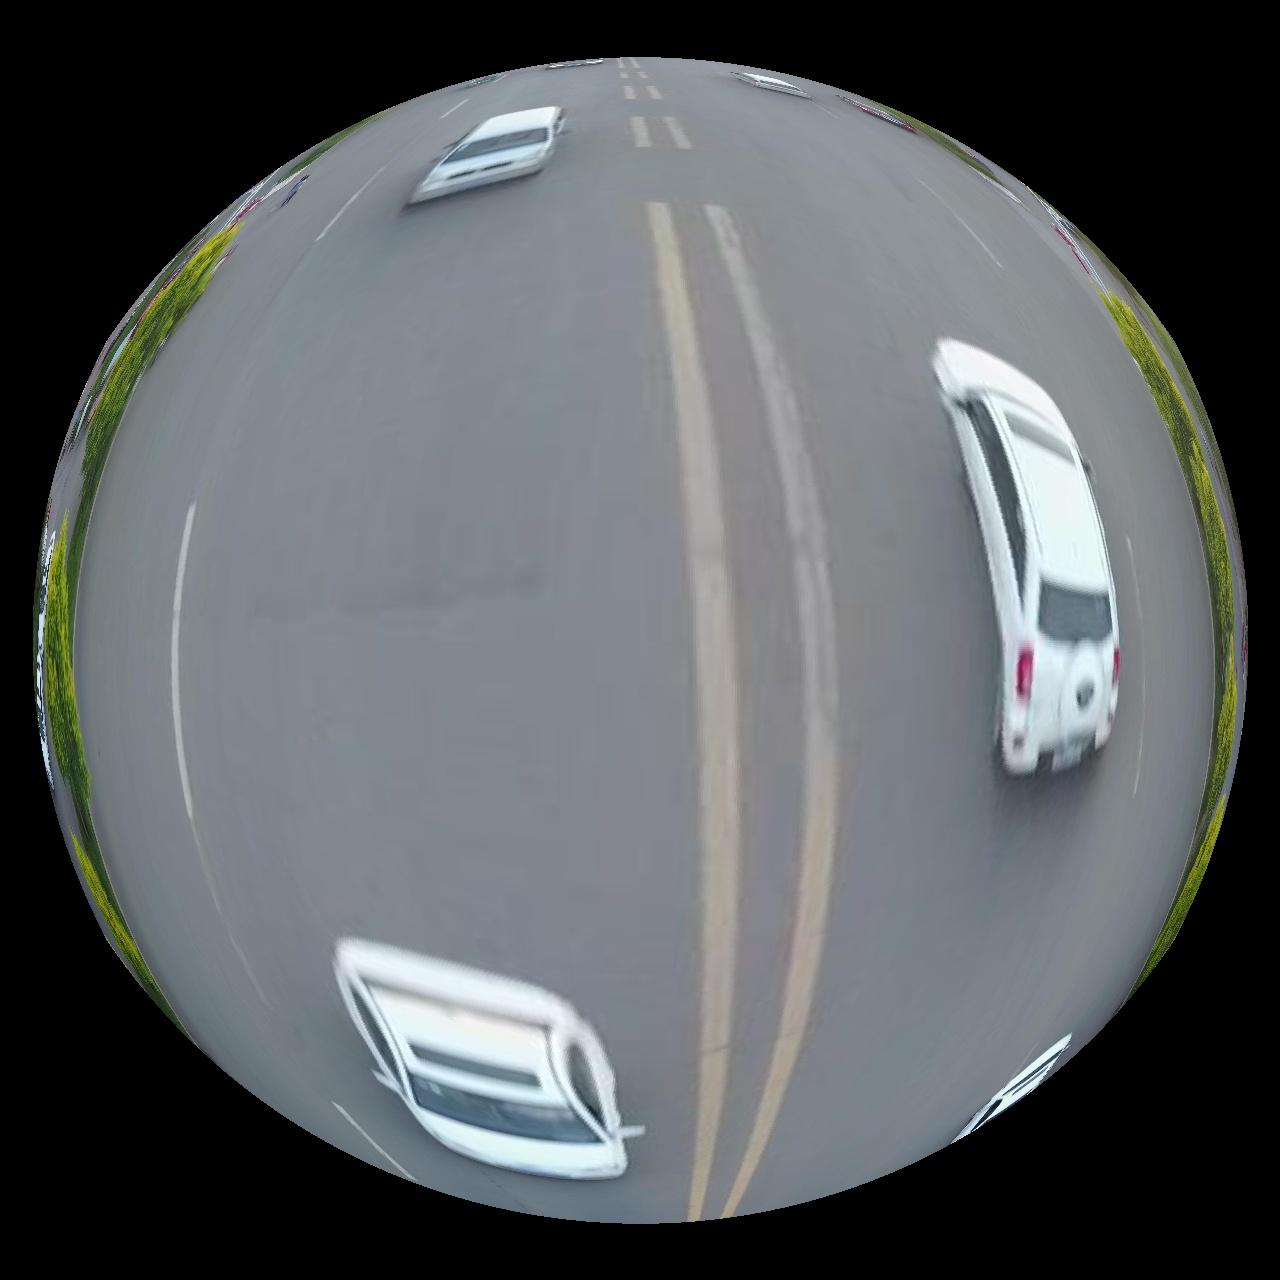cars: (935, 338, 1122, 776), (336, 939, 640, 1182), (409, 105, 563, 203), (735, 69, 810, 96)
